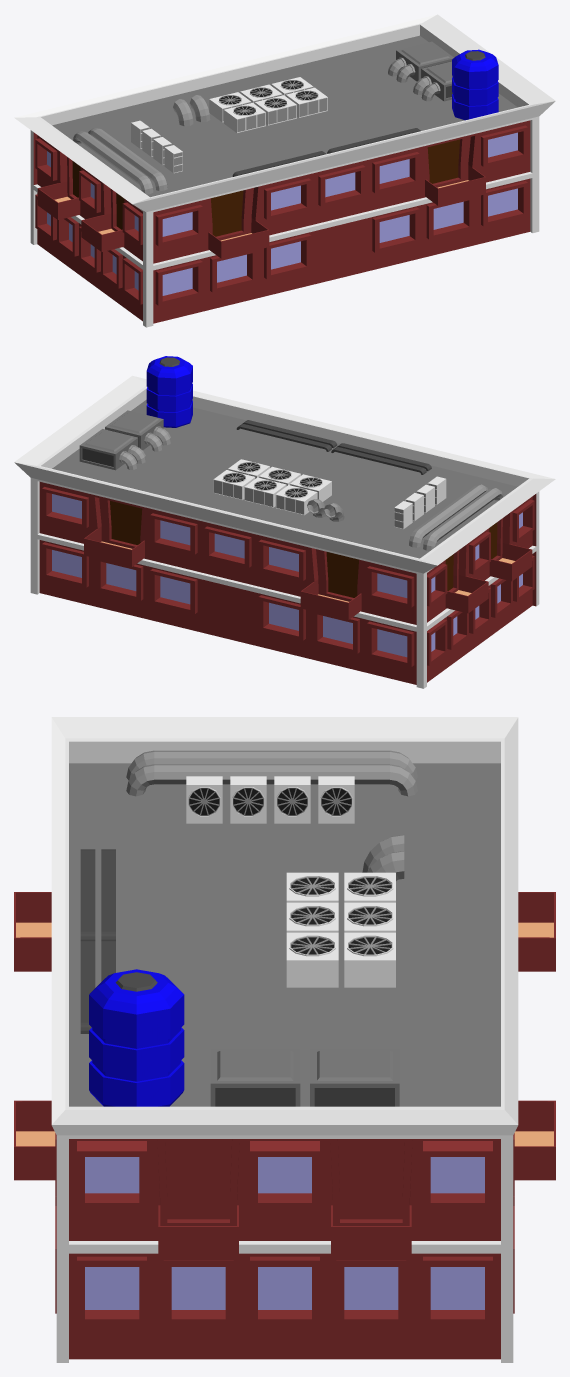
File: Apartment Red Top.FBX
3 views of the same model, one above another, from view 1: azimuth 30°, elevation 25°; view 2: azimuth 150°, elevation 25°; view 3: azimuth 270°, elevation 25° (orthographic). The views are drawn at different scales.
Visible parts, largest first — view 1: Apartment red top; view 2: Apartment red top; view 3: Apartment red top.
Boxes of the visible parts, bbox=[...] form: Apartment red top: bbox=[14, 14, 555, 327]; Apartment red top: bbox=[14, 356, 555, 688]; Apartment red top: bbox=[14, 717, 555, 1362].
Size of the model in its own units: 1231 by 471 by 680.
1 material, 1 textured.
